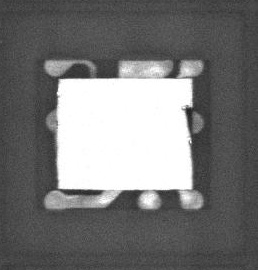DIE_BROKEN: (181, 104, 193, 136)
